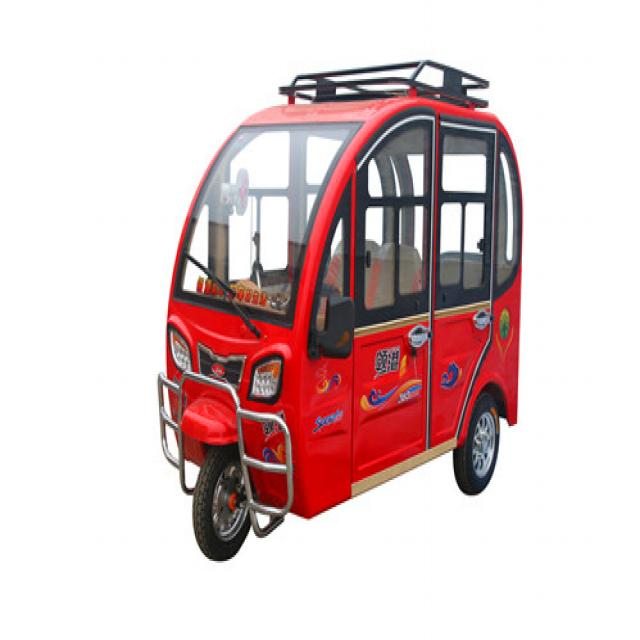tricycle: (155, 58, 523, 557)
